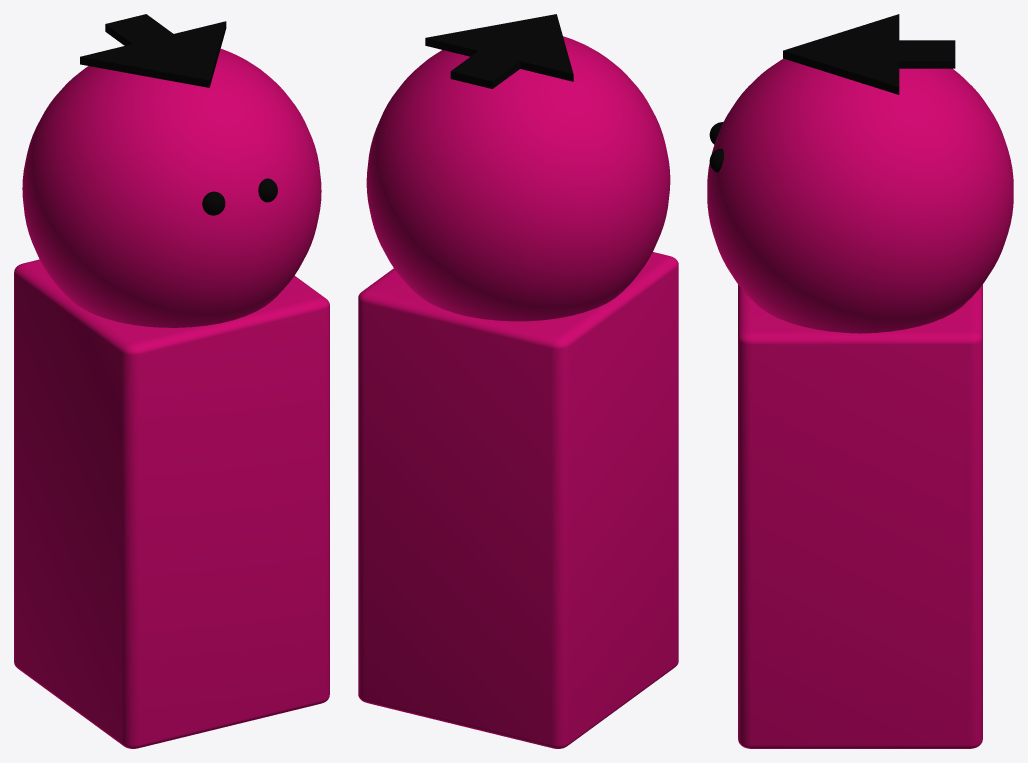
Rendered from 6pink.obj.
3 renders of one model, left to right at view 1: azimuth 30°, elevation 25°; view 2: azimuth 150°, elevation 25°; view 3: azimuth 270°, elevation 25°, orthographic. The views are drawn at different scales.
Visible parts, largest first — view 1: Curve.004_Curve.007; view 2: Curve.004_Curve.007; view 3: Curve.004_Curve.007.
Boxes of the visible parts, x1,y1,x2,y2 form: Curve.004_Curve.007: [14, 14, 329, 748]; Curve.004_Curve.007: [358, 14, 678, 748]; Curve.004_Curve.007: [707, 14, 1013, 748].
Size of the model in its own units: 0.2062 by 0.4815 by 0.2057.
